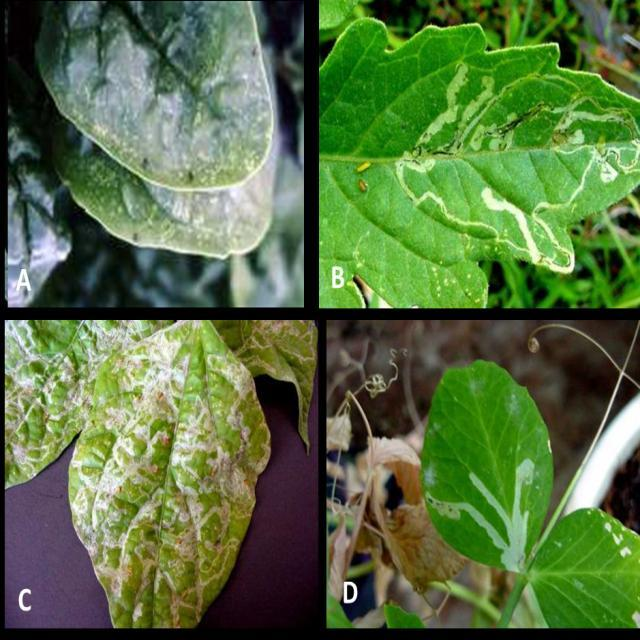Serpentine leafminer: (3, 315, 317, 635), (343, 42, 640, 275), (37, 0, 273, 190), (47, 133, 278, 258), (433, 438, 543, 578)
